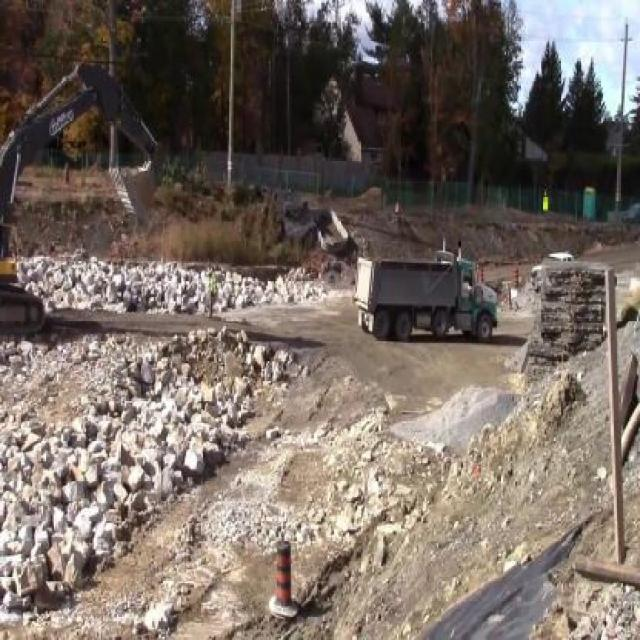Dump Truck: (352, 240, 502, 343)
Excavator: (0, 67, 165, 345)
